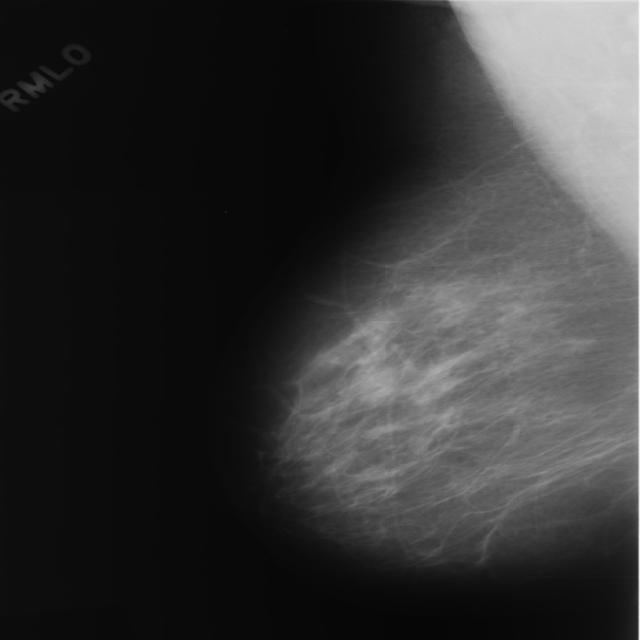tumour: (404, 434, 430, 454)
